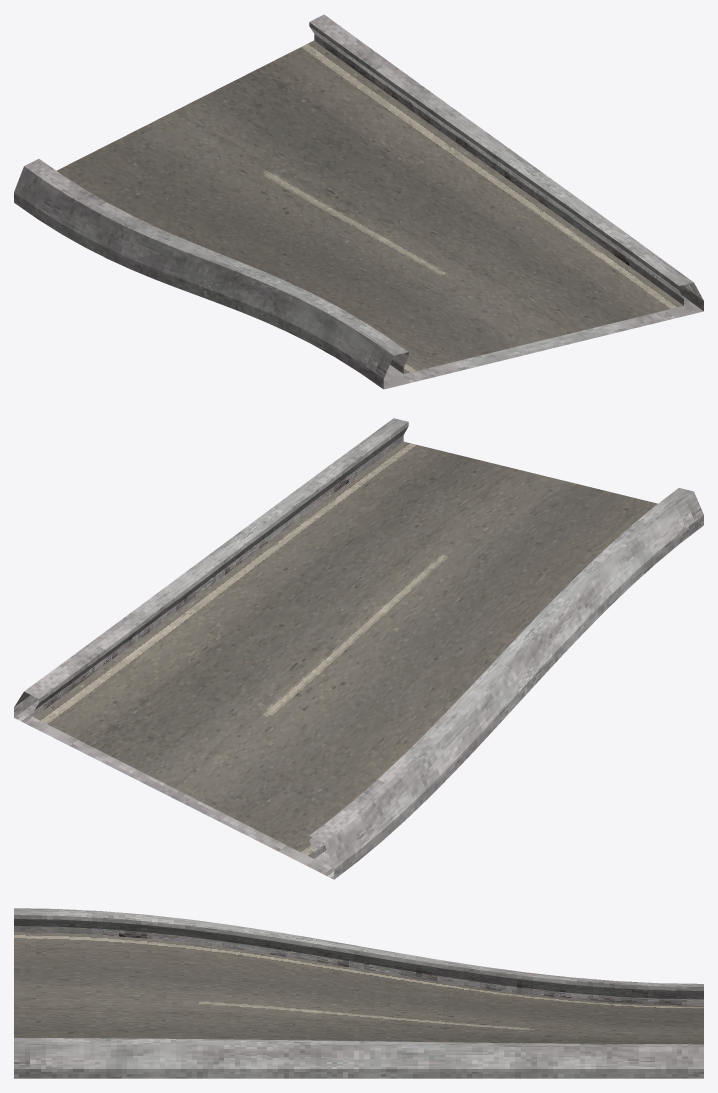
The model's file is road-Straight-Flat-HalfBankedLeft-Down1-Center-Size2.glb.
3 renders of one model, top to bottom at view 1: azimuth 30°, elevation 25°; view 2: azimuth 150°, elevation 25°; view 3: azimuth 270°, elevation 25°, orthographic. The views are drawn at different scales.
Visible parts, largest first — view 1: road-Straight-Flat-HalfBankedLeft-Down1-Center-Size2; view 2: road-Straight-Flat-HalfBankedLeft-Down1-Center-Size2; view 3: road-Straight-Flat-HalfBankedLeft-Down1-Center-Size2.
Part boxes in pixels (x1=…): road-Straight-Flat-HalfBankedLeft-Down1-Center-Size2: x1=14, y1=14, x2=703, y2=389; road-Straight-Flat-HalfBankedLeft-Down1-Center-Size2: x1=14, y1=418, x2=703, y2=879; road-Straight-Flat-HalfBankedLeft-Down1-Center-Size2: x1=14, y1=908, x2=703, y2=1078.
Bounding box in the file's own units: 1 × 0.3438 × 2.
2 materials, 2 textured.
